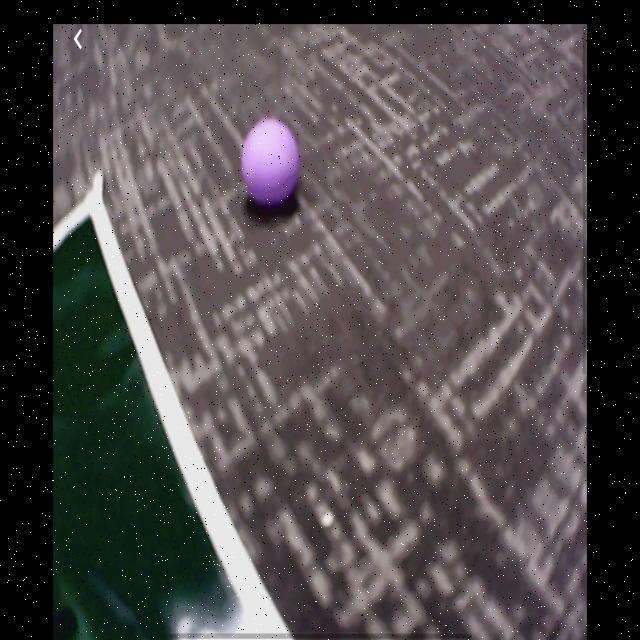ball: (240, 117, 301, 208)
